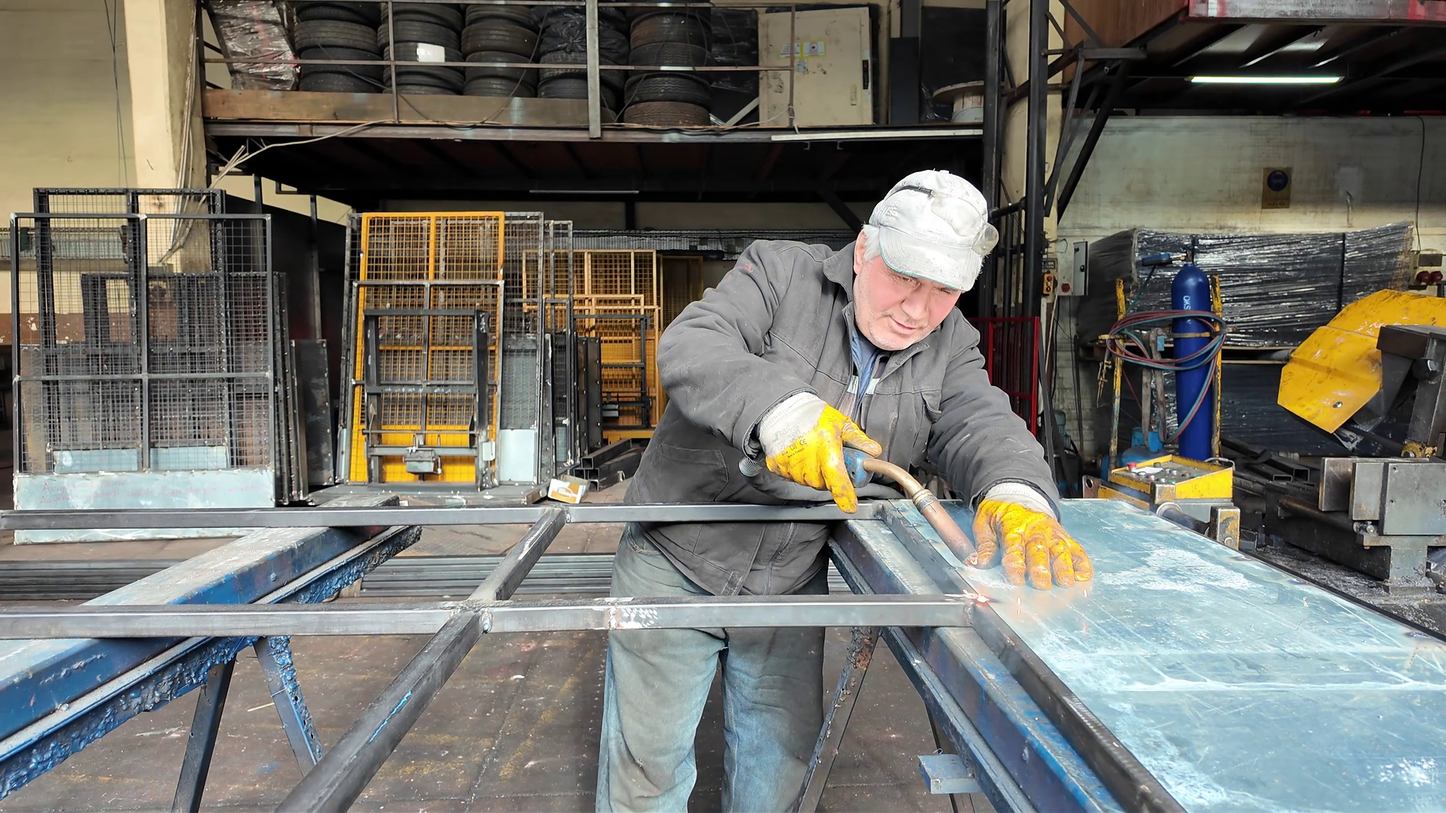person: (590, 169, 1098, 813)
